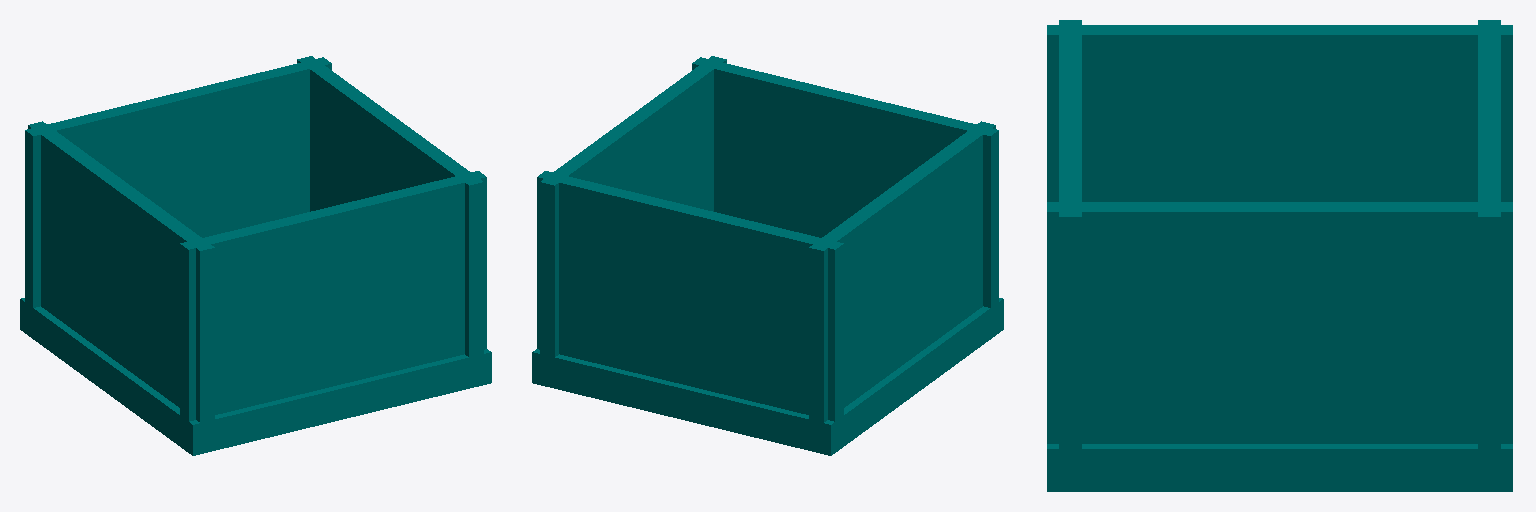
robot.urdf — bowl.urdf:
<?xml version="0.0" ?>
<robot name="bowl.urdf">

    <material name="yellow">
        <color rgba="1 1 0.4 1"/>
    </material>
    <material name="teal">
        <color rgba="0 .5 .5 1"/>
    </material>

    <link name="world"/>

    <link name="base">
        <contact>
            <lateral_friction value="1.0"/>
            <rolling_friction value="0.0"/>
            <contact_cfm value="0.0"/>
            <contact_erp value="1.0"/>
        </contact>
        <inertial>
            <origin rpy="0 0 0" xyz="0.0 0.0 0.0"/>
            <mass value=".1"/>
            <inertia ixx="1" ixy="0" ixz="0" iyy="1" iyz="0" izz="1"/>
        </inertial>
        <visual>
            <origin rpy="0 0 0" xyz="0 0 -.3"/>
            <geometry>
                <box size="1.0 1.0 .1"/>
            </geometry>
            <material name="teal"/>
        </visual>
        <collision>
            <origin rpy="0 0 0" xyz="0 0 -.3"/>
            <geometry>
                <box size="1.2 1.2 .1"/>
            </geometry>
        </collision>
        <visual>
            <origin rpy="0 0 0" xyz="0 -.45 0"/>
            <geometry>
                <box size="1 .05 .6"/>
            </geometry>
            <material name="teal"/>
        </visual>
        <collision>
            <!-- right -->
            <origin rpy="0 0 0" xyz="0 -.45 0"/>
            <geometry>
                <box size="1 .05 .6"/>
            </geometry>
        </collision>
        <visual>
            <origin rpy="0 0 0" xyz="0 .45 0"/>
            <geometry>
                <box size="1 .05 .6"/>
            </geometry>
            <material name="teal"/>
        </visual>
        <collision>
            <!-- left -->
            <origin rpy="0 0 0" xyz="0 .45 0"/>
            <geometry>
                <box size="1 .05 .6"/>
            </geometry>
        </collision>
        <visual>
            <origin rpy="0 0 0" xyz=".45 0 0"/>
            <geometry>
                <box size=".05 1 .6"/>
            </geometry>
            <material name="teal"/>
        </visual>

        <collision>
            <!-- front -->
            <origin rpy="0 0 0" xyz=".45 0 0"/>
            <geometry>
                <box size=".05 1 .6"/>
            </geometry>
        </collision>
        <visual>
            <origin rpy="0 0 0" xyz="-.45 0 0"/>
            <geometry>
                <box size=".05 1 .6"/>
            </geometry>
            <material name="teal"/>
        </visual>

        <collision>
            <!-- back -->
            <origin rpy="0 0 0" xyz="-.45 0 0"/>
            <geometry>
                <box size=".05 1 .6"/>
            </geometry>
        </collision>
    </link>

    <joint name="base_joint" type="fixed">
        <parent link="world"/>
        <child link="base"/>
    </joint>

</robot>

--- Render facts (derived) ---
Views: 3 orthographic renders of the robot side by side, from view 1: azimuth 30°, elevation 25°; view 2: azimuth 150°, elevation 25°; view 3: azimuth 270°, elevation 25°.
Model bowl.urdf with 2 links and 1 joints (1 fixed), rooted at world, posed every joint at zero.
Links seen in each view (by area): view 1: base; view 2: base; view 3: base.
Link boxes in pixels (x1,y1,x2,y2): base: (20, 56, 491, 455); base: (532, 56, 1003, 455); base: (1047, 20, 1512, 491).
Bounding box of the posed robot: 1 × 1 × 0.65 m (x, y, z).
Geometry: primitives only (box / cylinder / sphere), no mesh files.